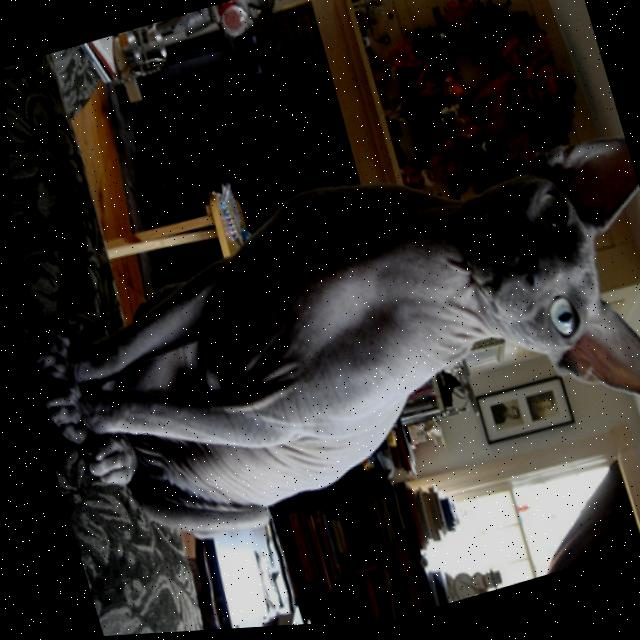Sphynx: (6, 98, 640, 584)
